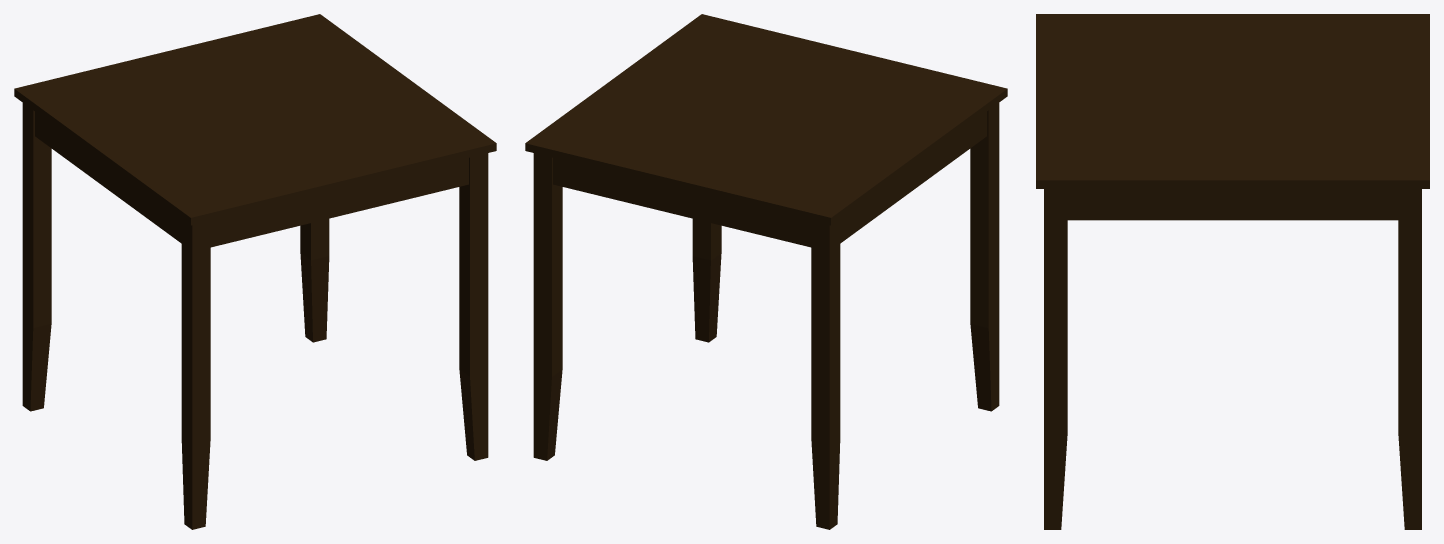
The model's file is mid_table.gltf.
The picture shows the model from 3 angles, left to right: view 1: azimuth 30°, elevation 25°; view 2: azimuth 150°, elevation 25°; view 3: azimuth 270°, elevation 25°; orthographic projection. The views are drawn at different scales.
Parts seen in each view (by area): view 1: Mesh1_M_0010_dark_wood_texture_seamless_0; view 2: Mesh1_M_0010_dark_wood_texture_seamless_0; view 3: Mesh1_M_0010_dark_wood_texture_seamless_0.
Part boxes in pixels (x1,y1,x2,y2): Mesh1_M_0010_dark_wood_texture_seamless_0: [14, 14, 496, 529]; Mesh1_M_0010_dark_wood_texture_seamless_0: [525, 14, 1007, 529]; Mesh1_M_0010_dark_wood_texture_seamless_0: [1036, 14, 1429, 529].
Bounding box in the file's own units: 0.7382 × 0.7283 × 0.7382.
